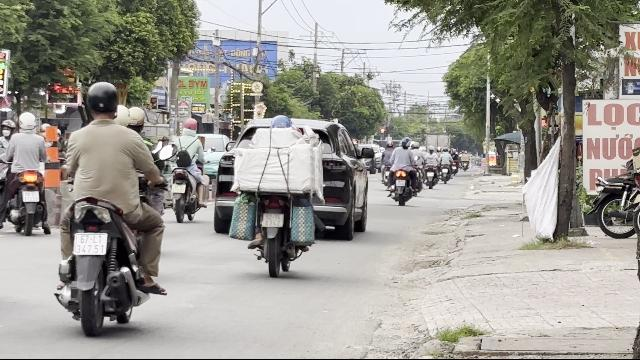helmet: (84, 81, 120, 121), (270, 114, 292, 134), (18, 111, 38, 131), (182, 117, 198, 134)
licenseplate: (73, 234, 109, 255), (262, 213, 284, 227), (22, 190, 38, 201), (171, 184, 185, 192)
motorcyclist: (49, 79, 169, 333), (228, 110, 320, 276), (1, 110, 52, 234), (167, 117, 207, 222)
